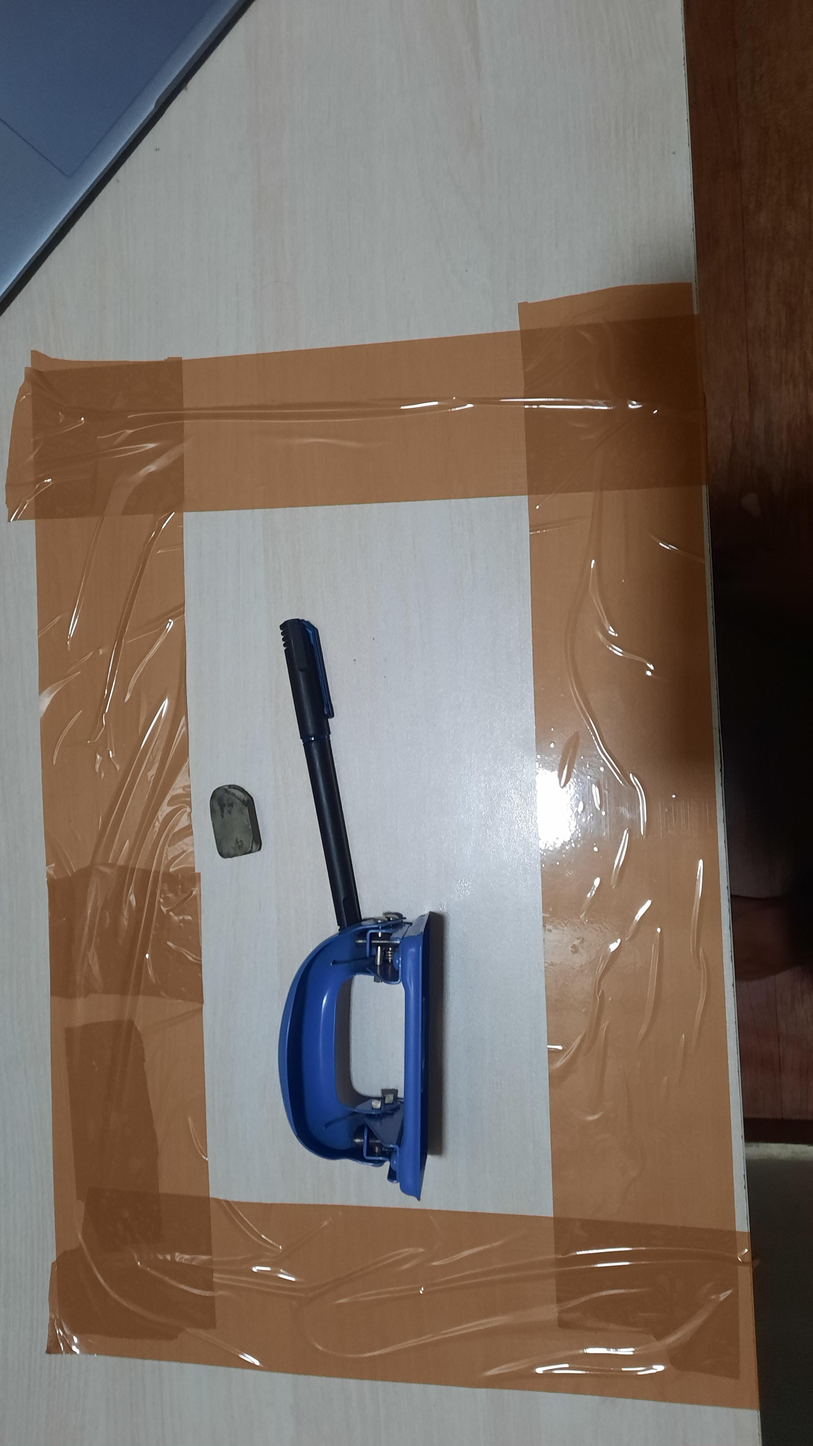Eraser: (209, 784, 263, 859)
Pen: (279, 618, 363, 931)
Punch: (278, 910, 445, 1202)
